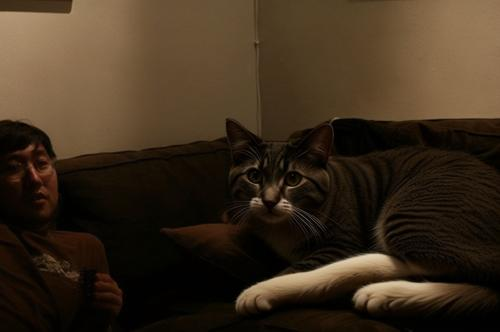cat: (225, 118, 500, 319)
person: (1, 119, 125, 332)
person/hand: (94, 272, 123, 324)
person/head: (2, 122, 57, 223)
sofa: (1, 122, 500, 332)
